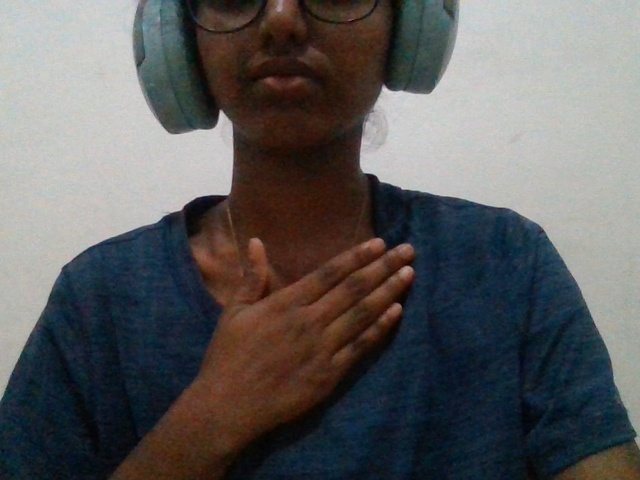Please: (190, 209, 433, 449)
